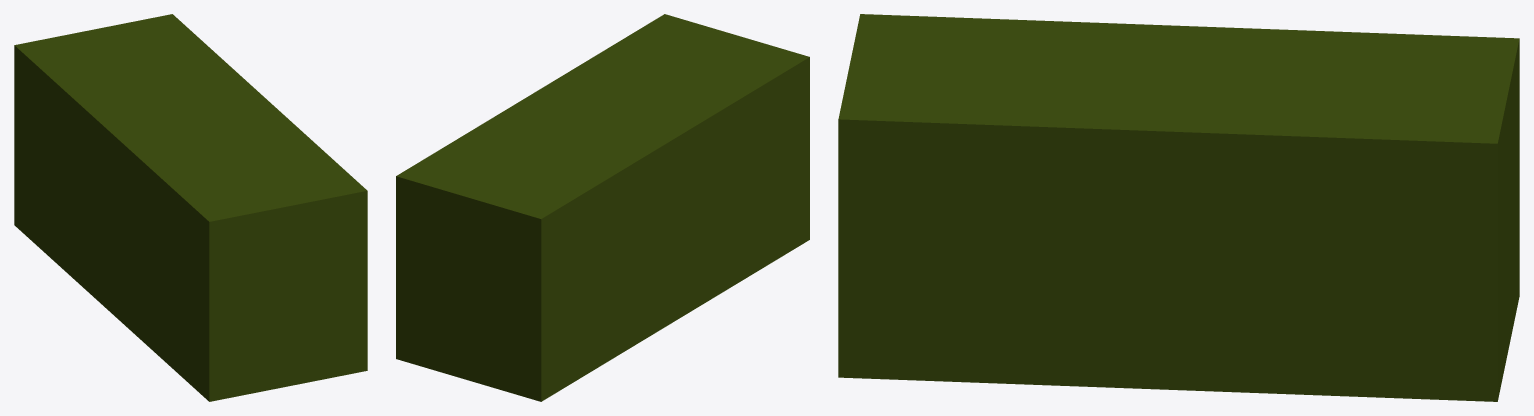
Rendered from GeneratorB_M.fbx.
3 views of the same model, side by side, from view 1: azimuth 30°, elevation 25°; view 2: azimuth 150°, elevation 25°; view 3: azimuth 270°, elevation 25° (orthographic). The views are drawn at different scales.
Parts seen in each view (by area): view 1: GeneratorB; view 2: GeneratorB; view 3: GeneratorB.
Boxes of the visible parts, bbox=[...] form: GeneratorB: bbox=[14, 14, 367, 401]; GeneratorB: bbox=[396, 14, 809, 401]; GeneratorB: bbox=[838, 14, 1519, 401].
Bounding box in the file's own units: 1.57 × 1.46 × 3.48.
